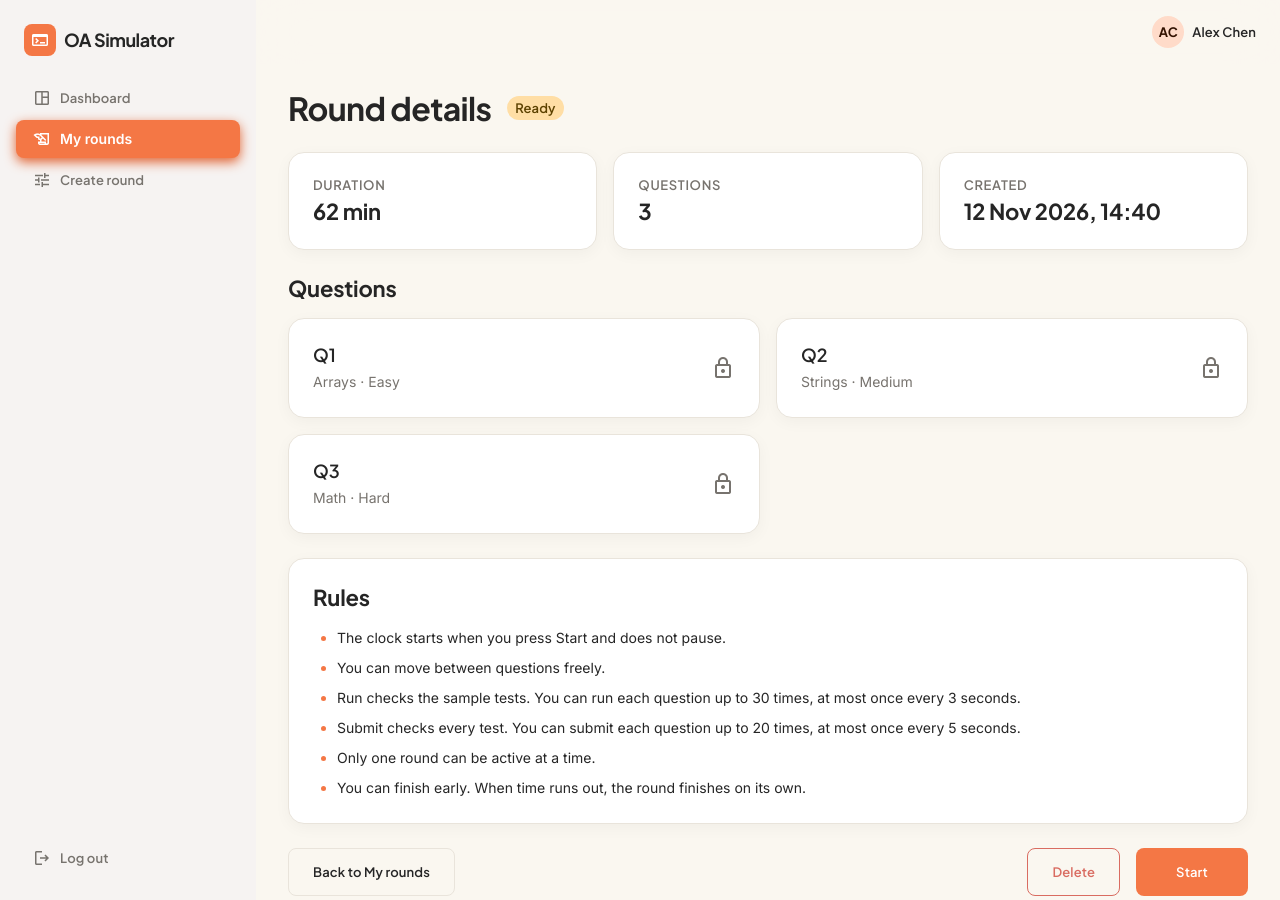
Test: S7 Start › ACTIVE_ROUND_EXISTS shows the banner without a link when E7 finds no active round
The image size is (1280, 900).
Click the button "Start" at (1192, 872), box [1136,848,1248,896]
(page scrolled)
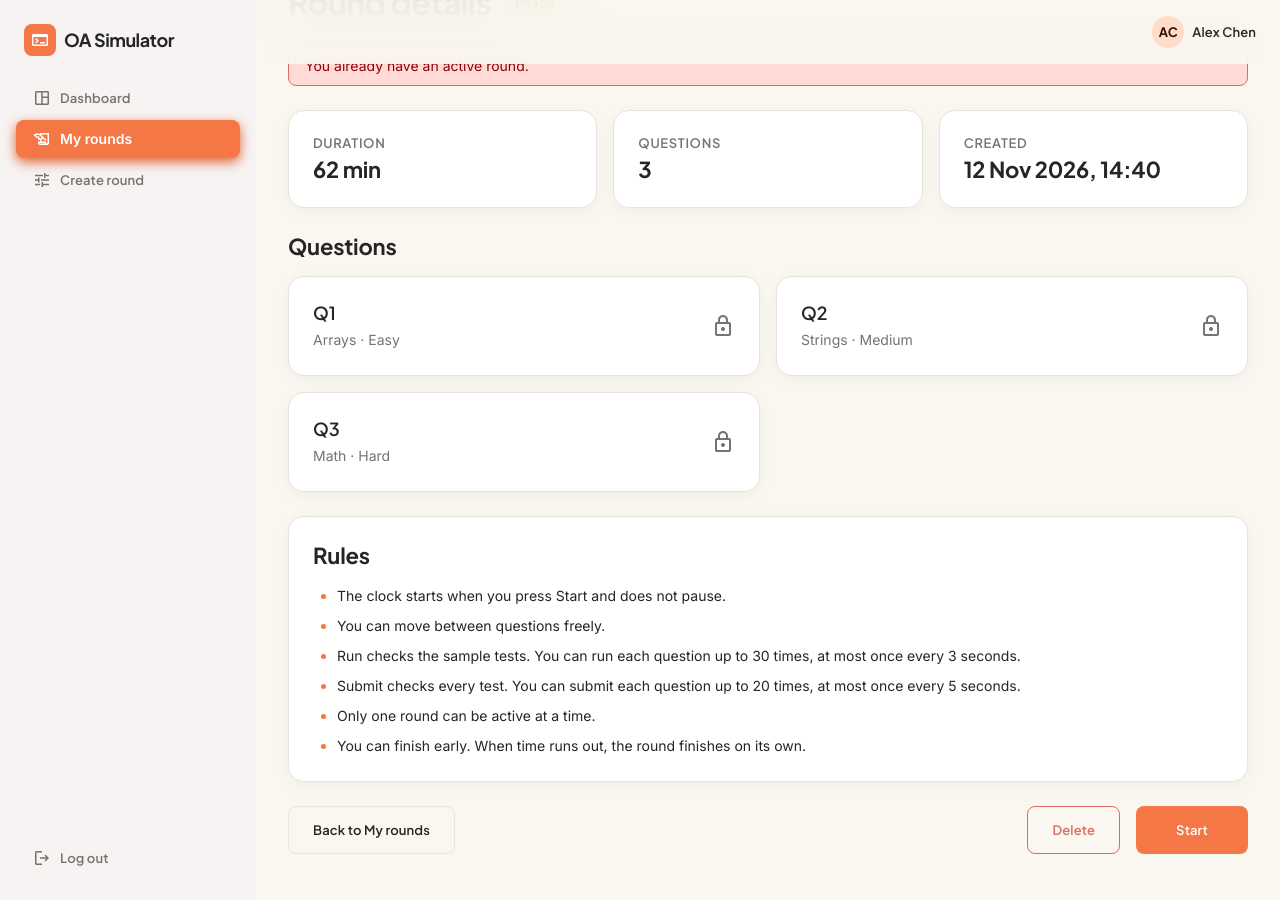
Expected: the button "Start" is enabled, [1136,806,1248,854]
Expected: the message reads "You already have an active round.", [305,57,529,74]
